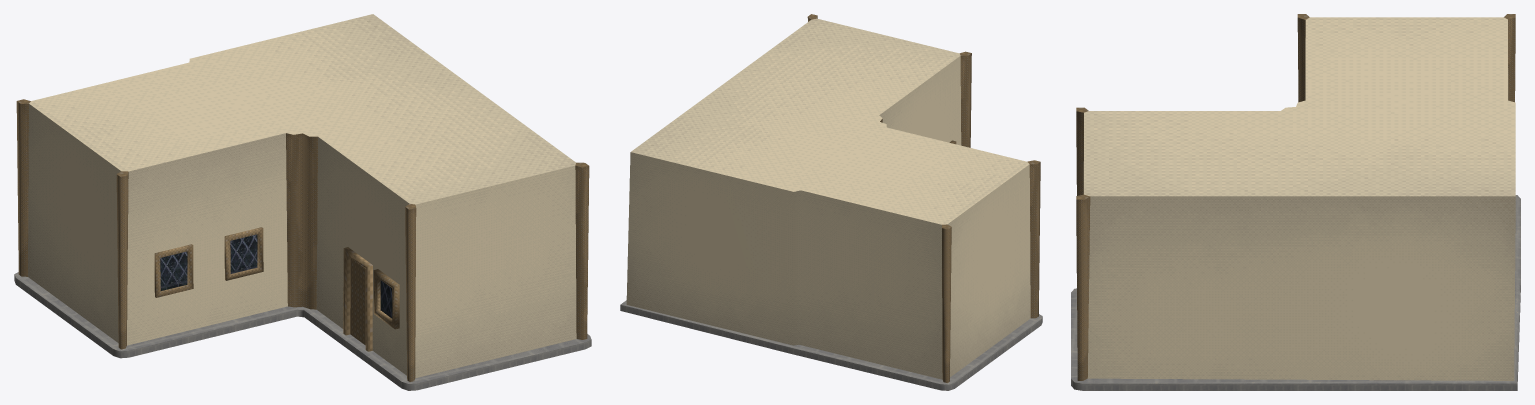
File: house_corner_base.fbx
3 views of the same model, side by side, from view 1: azimuth 30°, elevation 25°; view 2: azimuth 150°, elevation 25°; view 3: azimuth 270°, elevation 25° (orthographic). The views are drawn at different scales.
Visible parts, largest first — view 1: corner_base; view 2: corner_base; view 3: corner_base.
Boxes of the visible parts, left/top/right/bottom form: corner_base: left=14, top=14, right=591, bottom=390; corner_base: left=620, top=14, right=1042, bottom=390; corner_base: left=1071, top=14, right=1520, bottom=390.
Bounding box in the file's own units: 31.55 × 14.64 × 31.55.
Materials: 2 (2 with a texture image).
